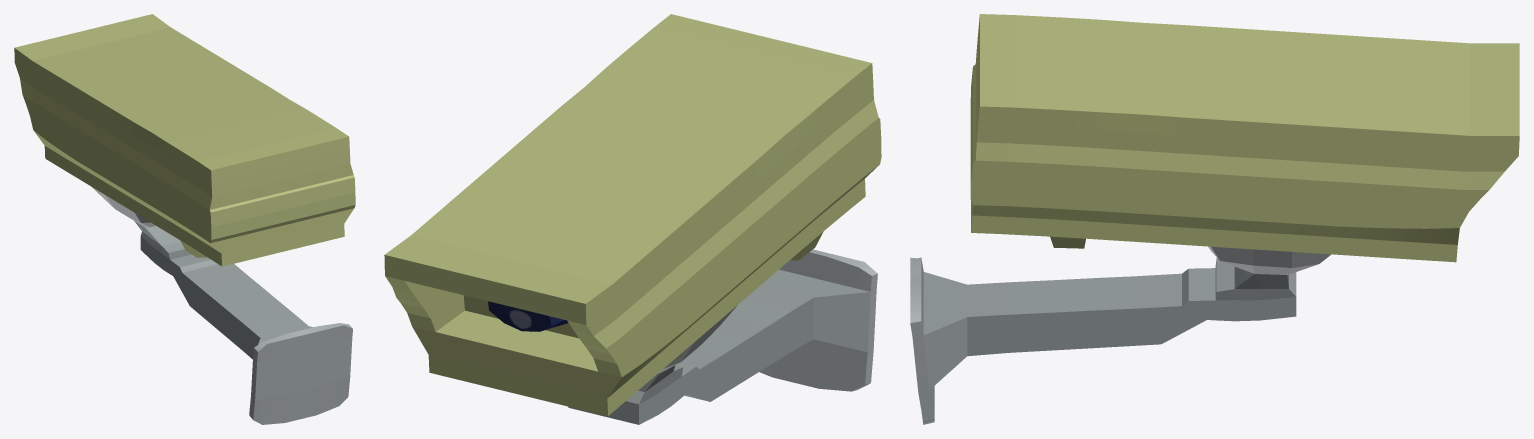
Rendered from CCTV Camera.fbx.
The picture shows the model from 3 angles, left to right: view 1: azimuth 30°, elevation 25°; view 2: azimuth 150°, elevation 25°; view 3: azimuth 270°, elevation 25°; orthographic projection. The views are drawn at different scales.
Parts seen in each view (by area): view 1: roadkill:RoadKillOut; view 2: roadkill:RoadKillOut; view 3: roadkill:RoadKillOut.
Part boxes in pixels (x1,y1,x2,y2): roadkill:RoadKillOut: [14, 14, 355, 424]; roadkill:RoadKillOut: [384, 14, 881, 424]; roadkill:RoadKillOut: [910, 14, 1519, 424].
Size of the model in its own units: 1.44 by 2.39 by 3.84.
1 material, 1 textured.
